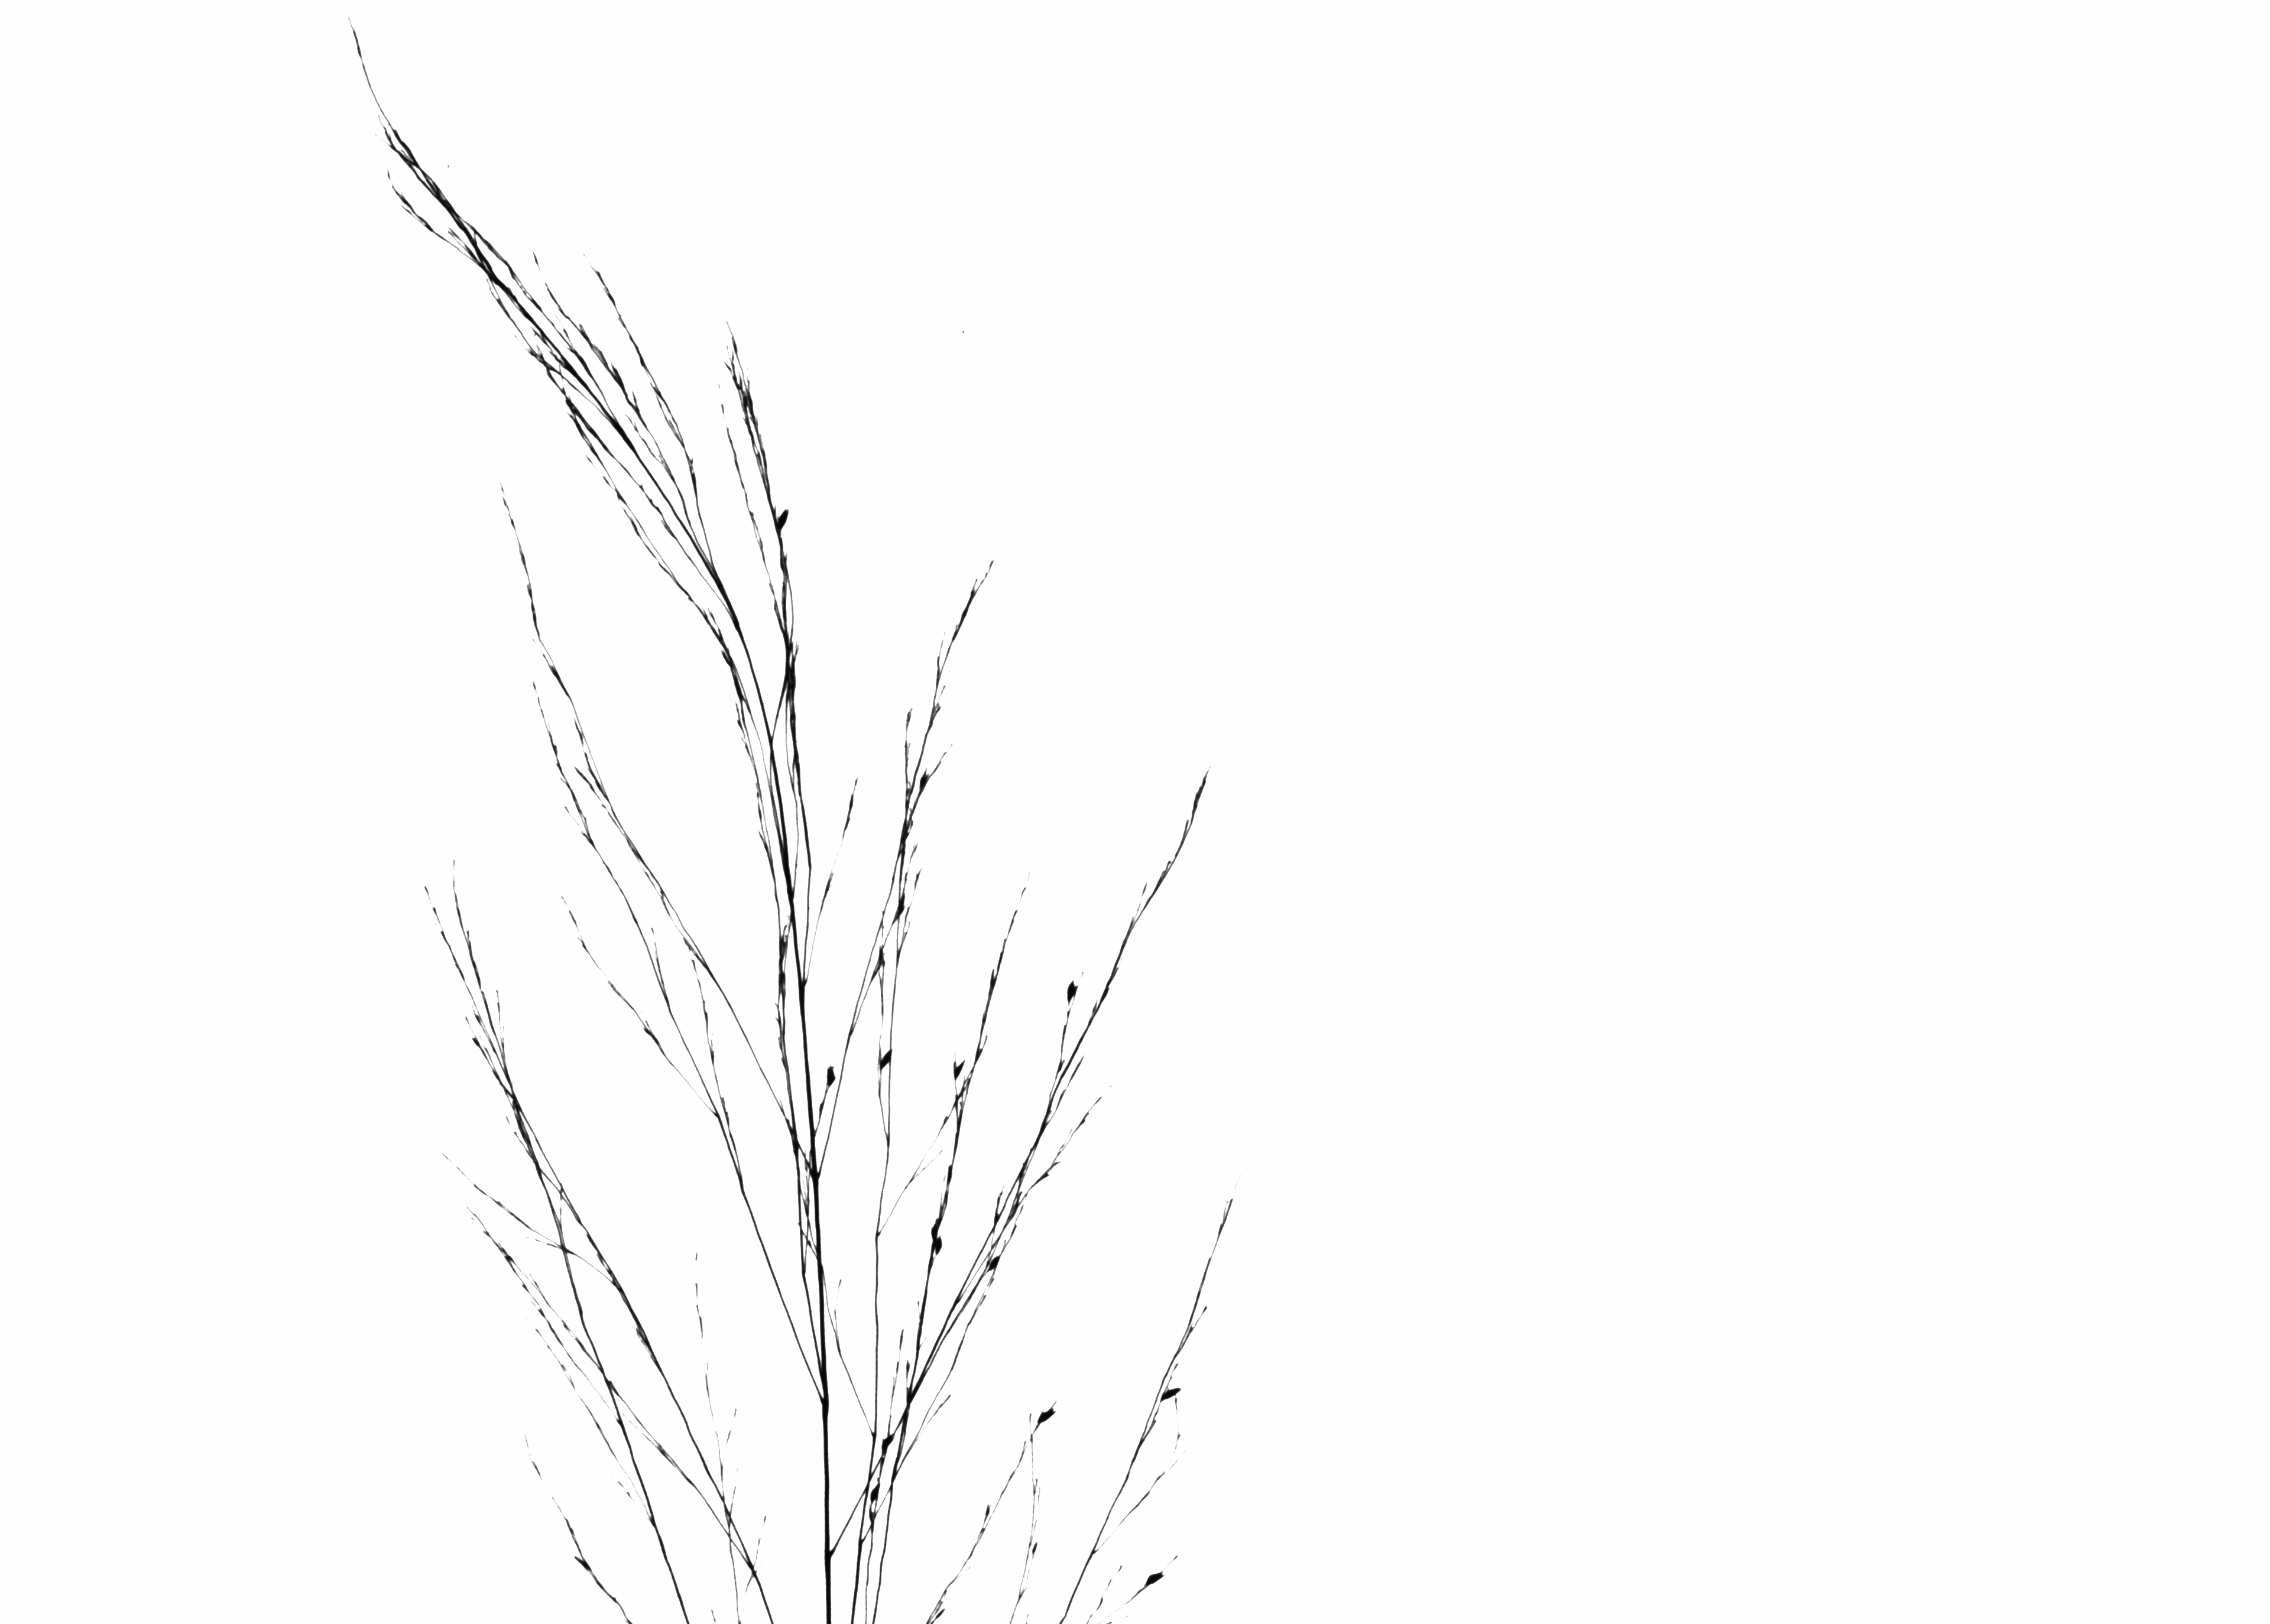seed: (774, 503, 797, 538), (1143, 1564, 1168, 1594), (1030, 1406, 1064, 1427), (874, 1046, 897, 1074), (1060, 975, 1081, 1005), (1157, 1383, 1185, 1404), (821, 1063, 840, 1090), (949, 1055, 967, 1083), (930, 1229, 946, 1258)
